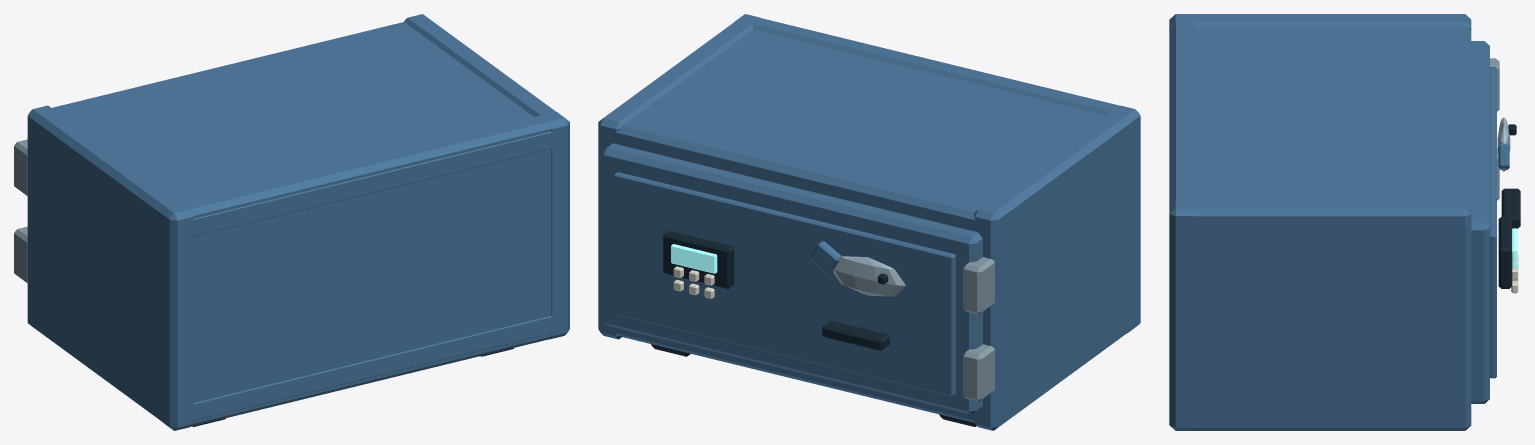
File: waterproof_case.glb
3 views of the same model, side by side, from view 1: azimuth 30°, elevation 25°; view 2: azimuth 150°, elevation 25°; view 3: azimuth 270°, elevation 25° (orthographic). The views are drawn at different scales.
Visible parts, largest first — view 1: back, top, left, bottom, right, hinge (×2); view 2: top, inset, left, door_panel, bottom, back, right, hinge (×2), whale_badge, display, handle, screen (+1 smaller); view 3: right, top, back, door_panel, bottom, left, inset, display, handle.
Boxes of the visible parts, box(x1,y1,x2,y2) form: back: box(161, 111, 569, 430); top: box(27, 22, 569, 239); left: box(27, 105, 193, 430); bottom: box(27, 304, 569, 424); right: box(404, 14, 569, 339); hinge (×2): box(14, 139, 27, 282); top: box(598, 29, 1140, 239); inset: box(614, 172, 955, 396); left: box(974, 105, 1140, 430); door_panel: box(601, 143, 982, 414); bottom: box(598, 304, 1140, 424); back: box(735, 14, 1140, 333); right: box(598, 14, 760, 339); hinge (×2): box(963, 257, 994, 401); whale_badge: box(833, 256, 905, 296); display: box(663, 230, 734, 288); handle: box(822, 320, 889, 350); screen: box(671, 244, 717, 273); right: box(1169, 200, 1471, 430); top: box(1169, 27, 1471, 236); back: box(1170, 14, 1196, 430); door_panel: box(1471, 41, 1489, 403); bottom: box(1169, 406, 1471, 424); left: box(1169, 14, 1471, 30); inset: box(1490, 66, 1496, 378); display: box(1498, 216, 1511, 288); handle: box(1501, 188, 1520, 228).
Bounding box in the file's own units: 1.25 × 0.7 × 0.93.
